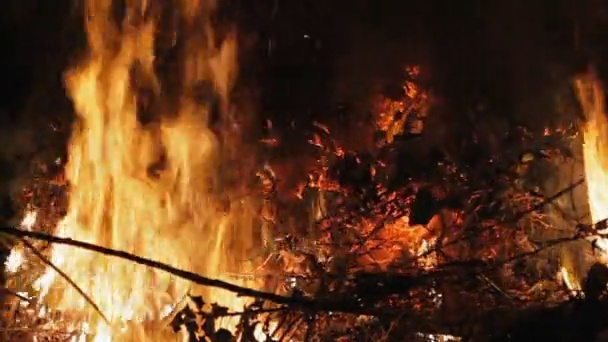fire: (32, 41, 248, 342), (580, 85, 608, 247), (390, 220, 430, 252), (561, 267, 577, 293), (6, 246, 23, 270), (406, 82, 419, 97), (22, 212, 35, 227)
